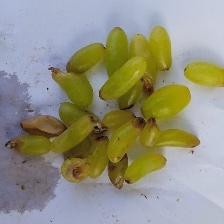grapes: (24, 47, 202, 204)
